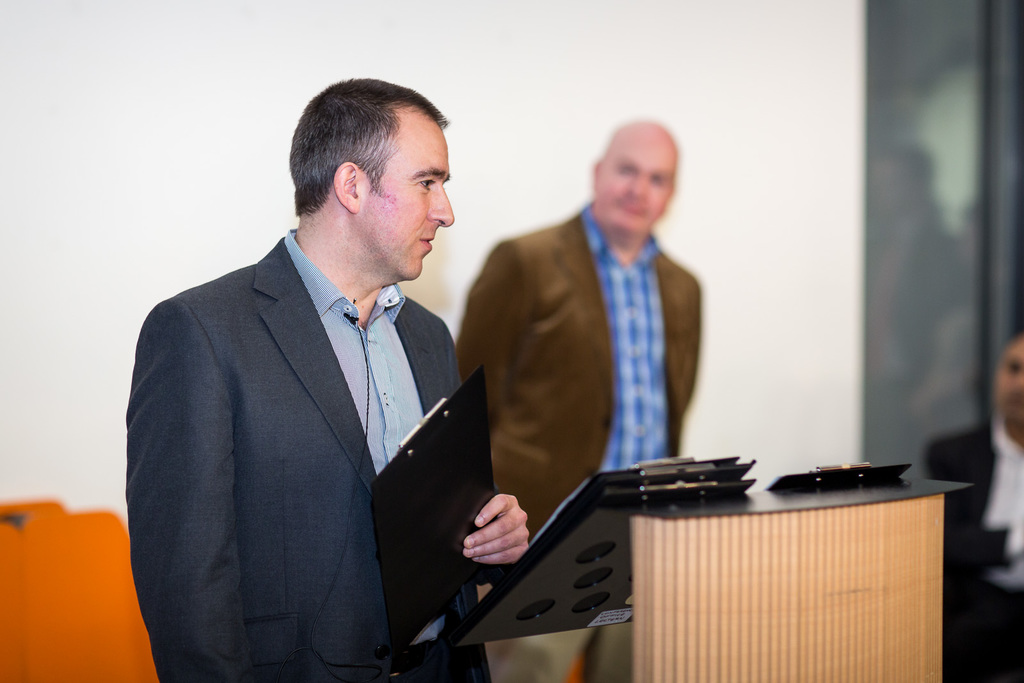Person: (921, 330, 1024, 682)
